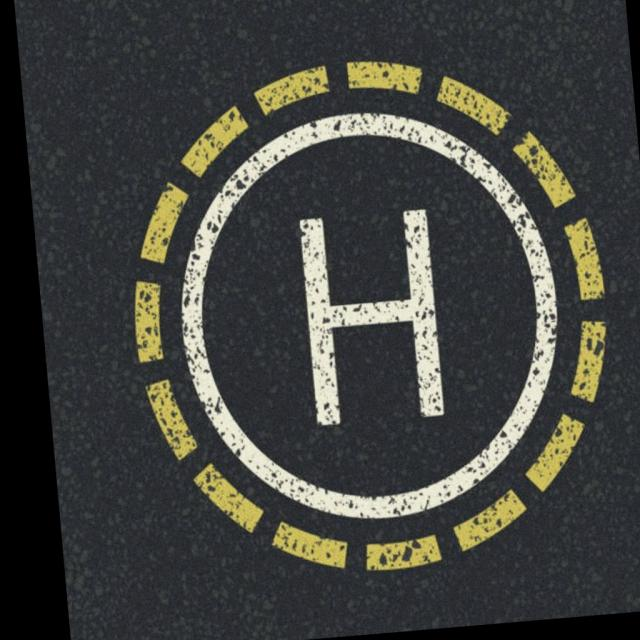helipad: (172, 102, 564, 526)
